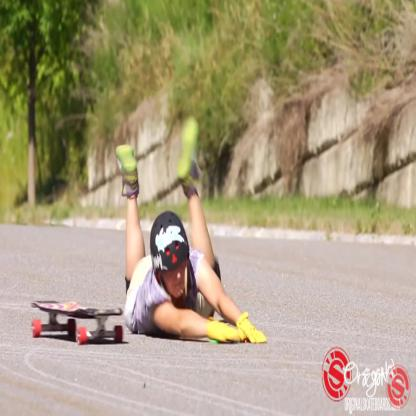Fall_Down: (113, 116, 270, 347)
